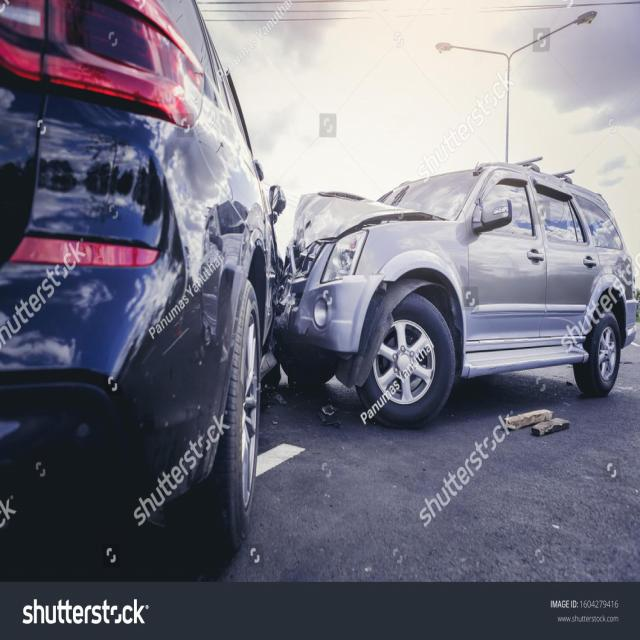accident: (0, 146, 605, 510)
